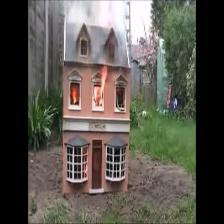fire: (95, 66, 109, 102)
